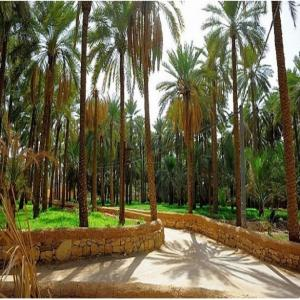palm tree: (200, 0, 267, 227), (126, 0, 185, 221), (88, 0, 143, 224), (28, 0, 77, 212), (156, 41, 211, 213)
